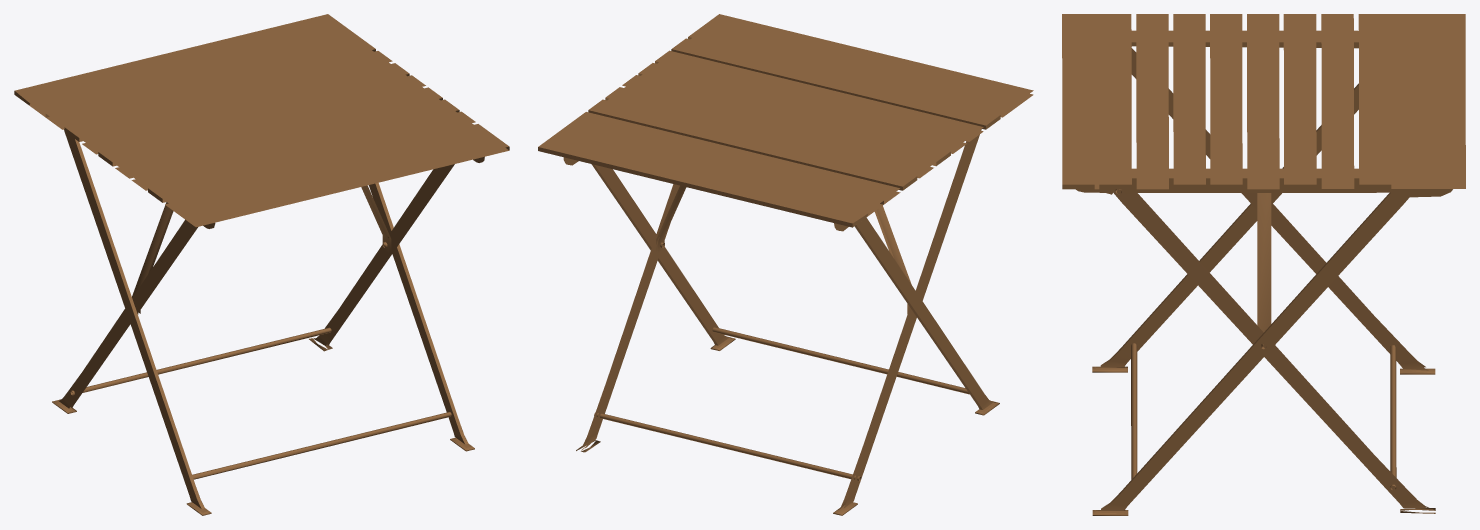
The model's file is B_CafeTable_LOD1.obj.
3 views of the same model, side by side, from view 1: azimuth 30°, elevation 25°; view 2: azimuth 150°, elevation 25°; view 3: azimuth 270°, elevation 25° (orthographic). The views are drawn at different scales.
Parts seen in each view (by area): view 1: B_CafeTable_m0; view 2: B_CafeTable_m0; view 3: B_CafeTable_m0.
Part boxes in pixels (x1,y1,x2,y2): B_CafeTable_m0: [14, 14, 509, 515]; B_CafeTable_m0: [538, 14, 1033, 515]; B_CafeTable_m0: [1062, 14, 1465, 515].
Size of the model in its own units: 0.9009 by 0.8434 by 0.901.
